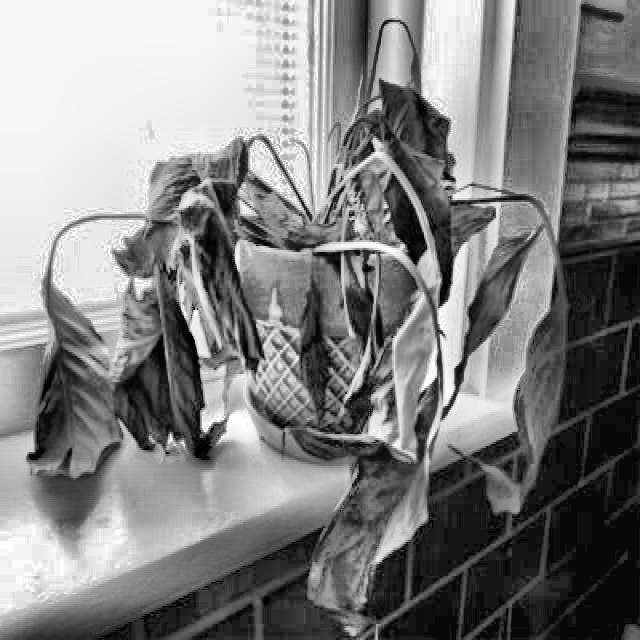plants: (29, 79, 580, 614)
